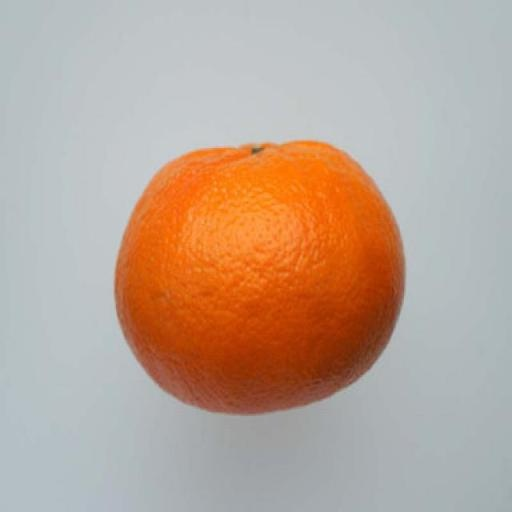fruit: (115, 142, 403, 413)
